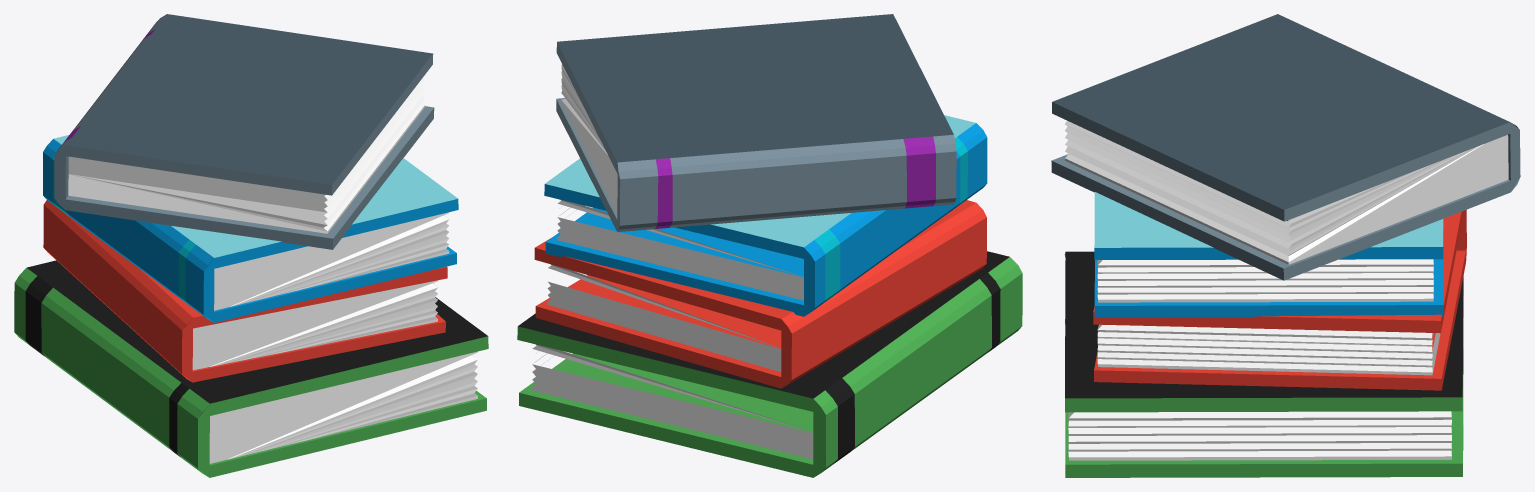
The model's file is livres.glb.
The picture shows the model from 3 angles, left to right: view 1: azimuth 30°, elevation 25°; view 2: azimuth 150°, elevation 25°; view 3: azimuth 270°, elevation 25°; orthographic projection. The views are drawn at different scales.
Visible parts, largest first — view 1: Books; view 2: Books; view 3: Books.
Part boxes in pixels (x1=…): Books: x1=14, y1=14, x2=488, y2=477; Books: x1=517, y1=14, x2=1022, y2=477; Books: x1=1051, y1=14, x2=1520, y2=477.
Size of the model in its own units: 0.5793 by 0.401 by 0.5761.
